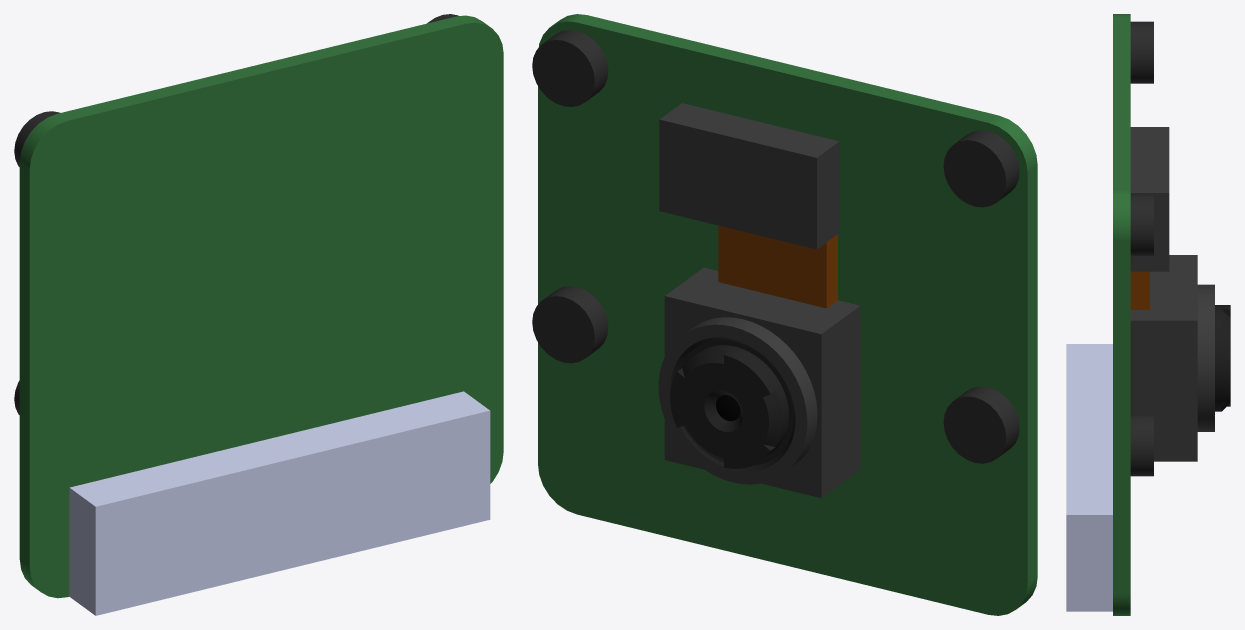
The model's file is raspi_camera.dae.
The picture shows the model from 3 angles, left to right: view 1: azimuth 30°, elevation 25°; view 2: azimuth 150°, elevation 25°; view 3: azimuth 270°, elevation 25°; orthographic projection. The views are drawn at different scales.
Visible parts, largest first — view 1: _3DGeom_35, _3DGeom_32, _3DGeom_34; view 2: _3DGeom_35, _3DGeom_44, _3DGeom_33, _3DGeom_34, _3DGeom_62, _3DGeom_31, _3DGeom_45; view 3: _3DGeom_44, _3DGeom_32, _3DGeom_35, _3DGeom_34, _3DGeom_33, _3DGeom_62, _3DGeom_31.
Boxes of the visible parts, left/top/right/bottom form: _3DGeom_35: left=19, top=15, right=503, bottom=598; _3DGeom_32: left=69, top=391, right=490, bottom=615; _3DGeom_34: left=14, top=14, right=458, bottom=414; _3DGeom_35: left=538, top=14, right=1037, bottom=615; _3DGeom_44: left=658, top=267, right=860, bottom=498; _3DGeom_33: left=659, top=103, right=839, bottom=249; _3DGeom_34: left=532, top=30, right=1019, bottom=463; _3DGeom_62: left=670, top=340, right=793, bottom=468; _3DGeom_31: left=718, top=225, right=837, bottom=308; _3DGeom_45: left=670, top=337, right=795, bottom=471; _3DGeom_44: left=1130, top=255, right=1214, bottom=461; _3DGeom_32: left=1066, top=344, right=1112, bottom=611; _3DGeom_35: left=1113, top=14, right=1130, bottom=615; _3DGeom_34: left=1130, top=21, right=1153, bottom=476; _3DGeom_33: left=1130, top=127, right=1169, bottom=271; _3DGeom_62: left=1215, top=305, right=1230, bottom=411; _3DGeom_31: left=1130, top=271, right=1149, bottom=309.
Size of the model in its own units: 0.025 by 0.00845 by 0.024.
